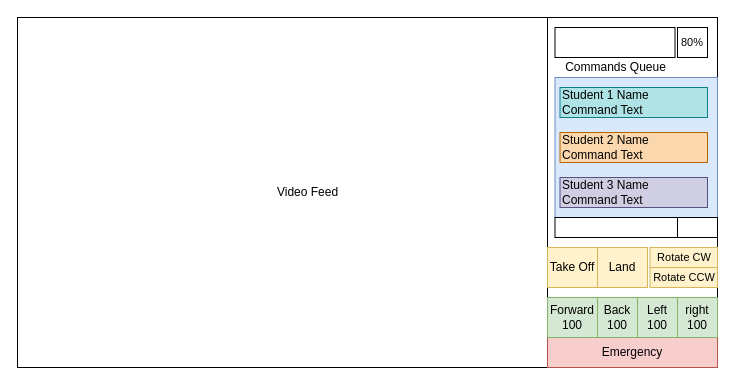
This 735x385 diagram has some shape labels left out. The shapes that lost their labels are listed below. From the top down, each one's box as (x1, y1, x2, y2) in pixels, then its label:
(554, 26, 675, 58): Connected
(554, 216, 678, 238): command text
(676, 216, 718, 238): SEND
